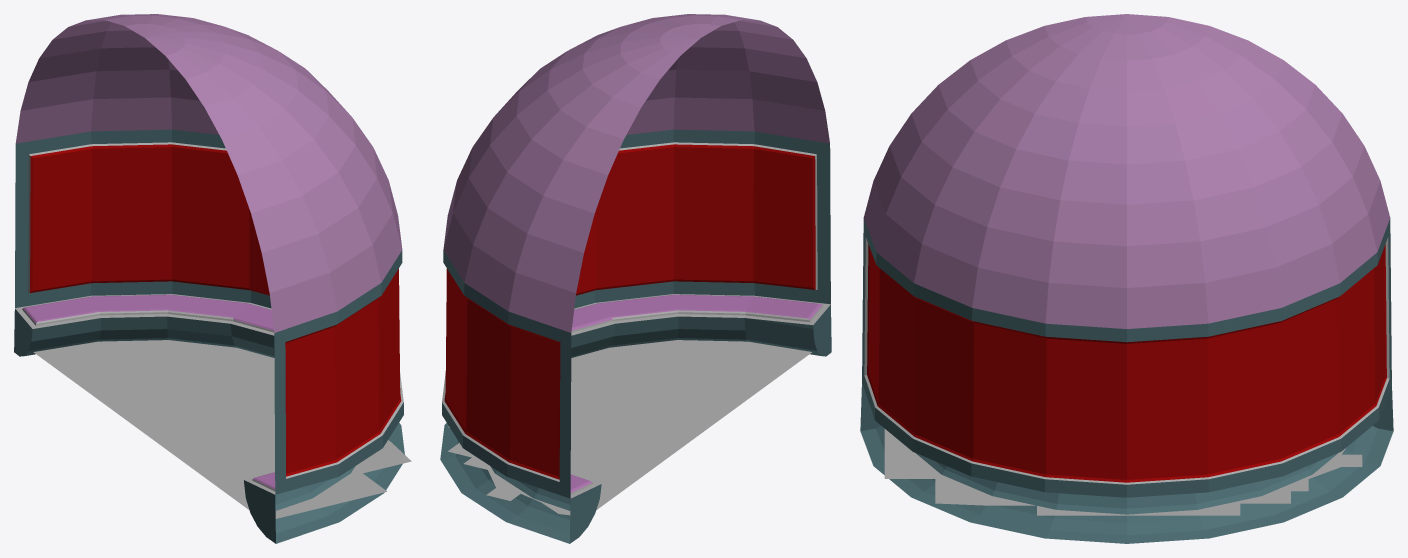
Rendered from Map_CircularChairs.fbx.
3 views of the same model, side by side, from view 1: azimuth 30°, elevation 25°; view 2: azimuth 150°, elevation 25°; view 3: azimuth 270°, elevation 25° (orthographic).
Parts seen in each view (by area): view 1: Sphere, Sphere_Floor; view 2: Sphere, Sphere_Floor; view 3: Sphere, Sphere_Floor.
Boxes of the visible parts, <box> form: Sphere: <box>14,14,404,543</box>; Sphere_Floor: <box>33,340,411,518</box>; Sphere: <box>440,14,831,543</box>; Sphere_Floor: <box>448,340,811,515</box>; Sphere: <box>860,14,1393,543</box>; Sphere_Floor: <box>884,429,1362,515</box>.
Size of the model in its own units: 3.82 by 6.4 by 7.41.
